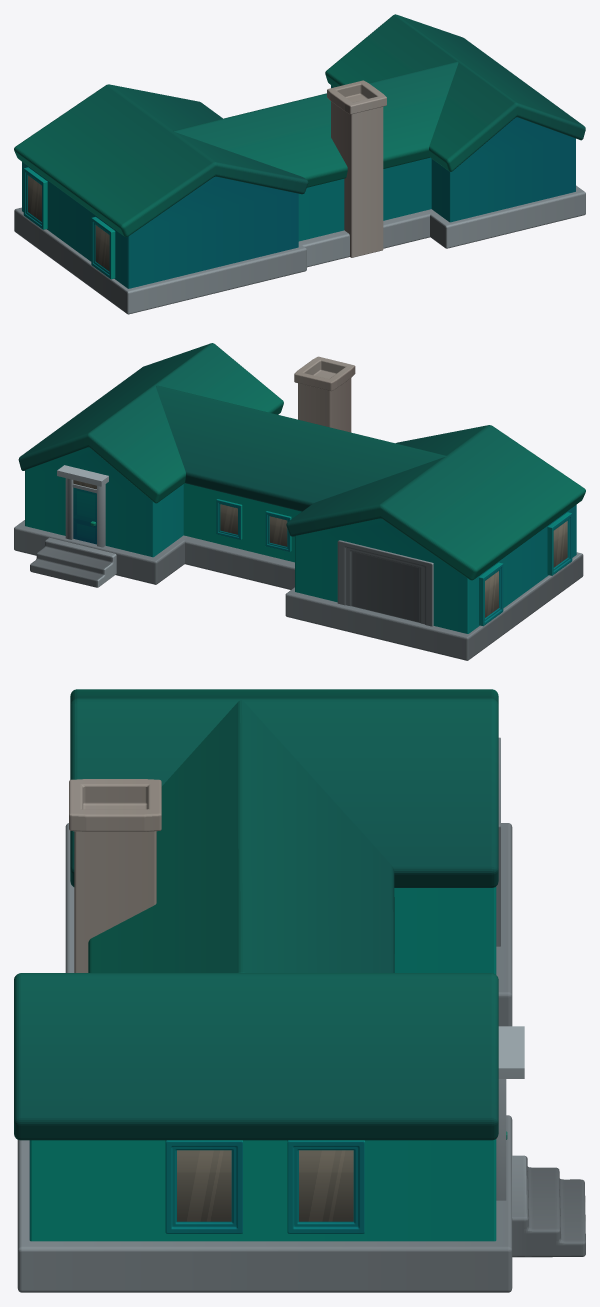
Rendered from CASA VERDE.fbx.
The picture shows the model from 3 angles, top to bottom: view 1: azimuth 30°, elevation 25°; view 2: azimuth 150°, elevation 25°; view 3: azimuth 270°, elevation 25°; orthographic projection. The views are drawn at different scales.
Visible parts, largest first — view 1: building_C_withoutBase.016; view 2: building_C_withoutBase.016; view 3: building_C_withoutBase.016.
Part boxes in pixels (x1,y1,x2,y2): building_C_withoutBase.016: (14,14,585,314); building_C_withoutBase.016: (14,343,585,660); building_C_withoutBase.016: (14,689,585,1292).
Size of the model in its own units: 2581 by 1448 by 843.
Materials: 2 (2 with a texture image).
